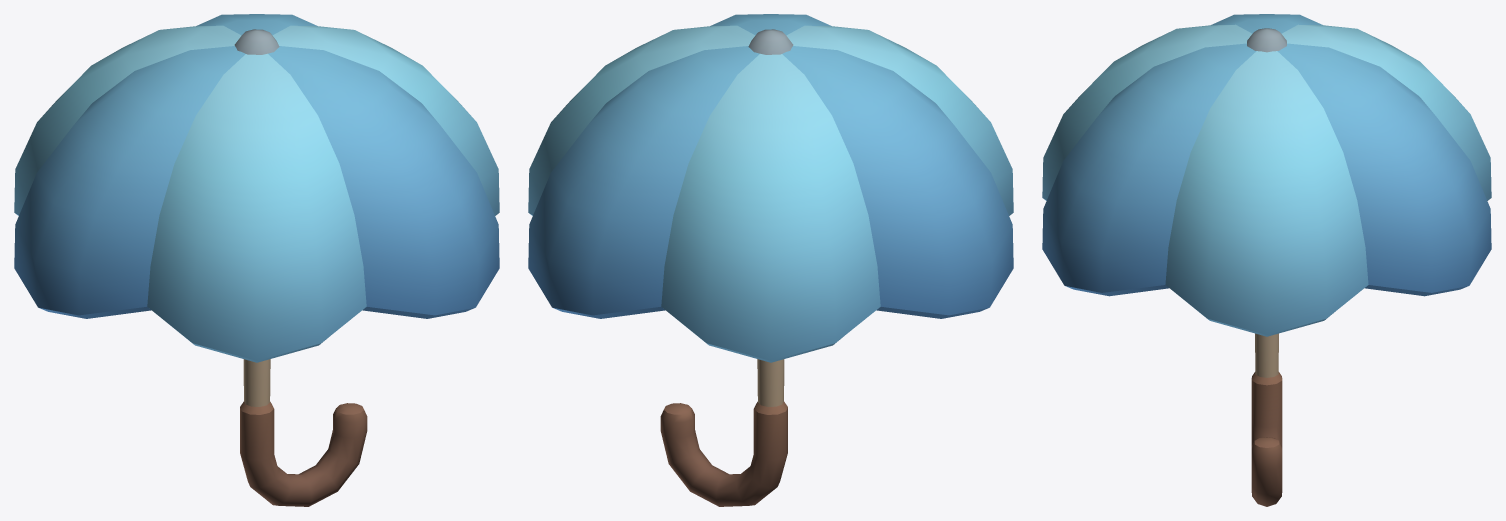
The model's file is umbrella_blue.glb.
3 renders of one model, left to right at view 1: azimuth 30°, elevation 25°; view 2: azimuth 150°, elevation 25°; view 3: azimuth 270°, elevation 25°, orthographic. The views are drawn at different scales.
Visible parts, largest first — view 1: umbrella_blue; view 2: umbrella_blue; view 3: umbrella_blue.
Boxes of the visible parts, left/top/right/bottom form: umbrella_blue: left=14, top=14, right=499, bottom=506; umbrella_blue: left=528, top=14, right=1013, bottom=506; umbrella_blue: left=1042, top=14, right=1491, bottom=506.
Bounding box in the file's own units: 1.77 × 1.86 × 1.68.
1 material, 1 textured.
